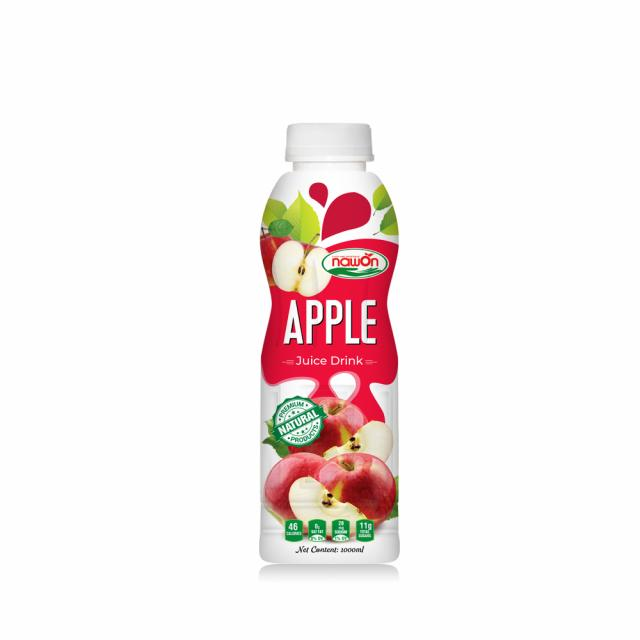non_white_jug: (233, 87, 407, 573)
